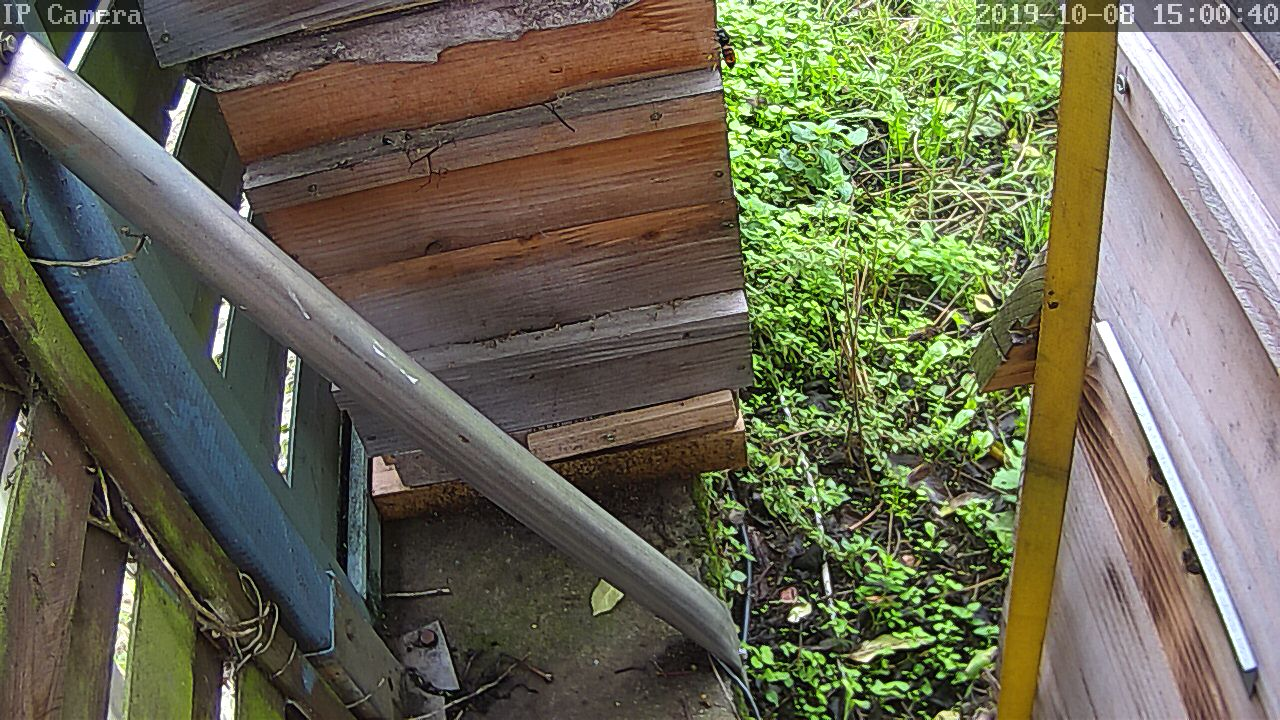bee: (1150, 495, 1187, 532), (1138, 448, 1168, 489), (1177, 548, 1206, 579)
hornet: (706, 23, 737, 76)
